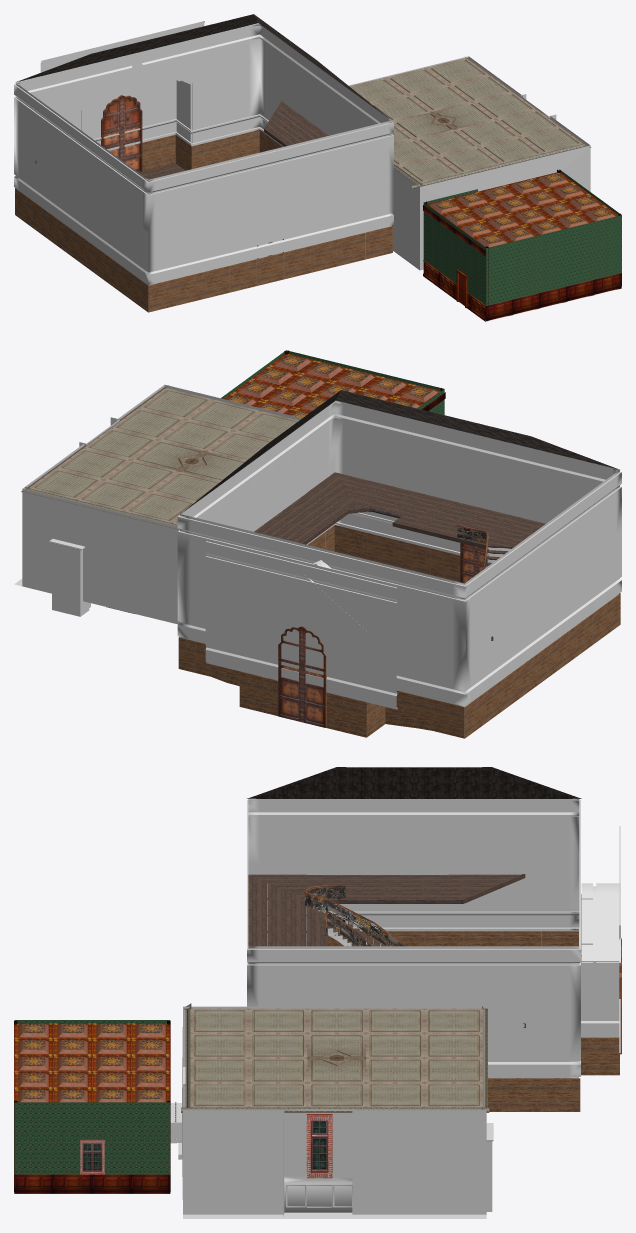
The model's file is MansaoParedes.fbx.
3 renders of one model, top to bottom at view 1: azimuth 30°, elevation 25°; view 2: azimuth 150°, elevation 25°; view 3: azimuth 270°, elevation 25°, orthographic. The views are drawn at different scales.
Parts seen in each view (by area): view 1: ParedesHall.001, ParedesHall, TetoBib, ParedesEscritorio, TetoEscritorio, ParedesBib, TelhadoHall, PortaEntradaHall, MezaninoLateral; view 2: ParedesHall.001, ParedesHall, TetoBib, ParedesBib, TetoEscritorio, MezaninoPrincipal, MezaninoLateral, TelhadoHall, PortaEntradaHall, Estantes, ParedesEscritorio, PortaSalaJantar; view 3: ParedesHall.001, ParedesBib, TetoBib, ParedesEscritorio, ParedesHall, TetoEscritorio, TelhadoHall, MezaninoLateral, MezaninoPrincipal, ChaoBib, ParapeitoEscada, Parapeito.col (+4 smaller).
Part boxes in pixels (<box>): ParedesHall.001: <box>14,23,393,285</box>; ParedesHall: <box>15,21,392,312</box>; TetoBib: <box>349,57,591,189</box>; ParedesEscritorio: <box>423,169,621,321</box>; TetoEscritorio: <box>427,172,618,247</box>; ParedesBib: <box>349,56,590,270</box>; TelhadoHall: <box>16,14,391,120</box>; PortaEntradaHall: <box>101,95,142,172</box>; MezaninoLateral: <box>35,100,328,163</box>; ParedesHall.001: <box>177,400,621,706</box>; ParedesHall: <box>178,525,620,738</box>; TetoBib: <box>21,385,299,529</box>; ParedesBib: <box>22,384,301,624</box>; TetoEscritorio: <box>224,354,440,418</box>; MezaninoPrincipal: <box>356,484,545,548</box>; MezaninoLateral: <box>254,472,493,640</box>; TelhadoHall: <box>181,390,617,513</box>; PortaEntradaHall: <box>278,626,326,727</box>; Estantes: <box>49,539,90,616</box>; ParedesEscritorio: <box>221,350,445,414</box>; PortaSalaJantar: <box>460,543,485,583</box>; ParedesHall.001: <box>247,798,580,1078</box>; ParedesBib: <box>170,1006,486,1216</box>; TetoBib: <box>181,1003,489,1112</box>; ParedesEscritorio: <box>14,1020,170,1193</box>; ParedesHall: <box>328,826,620,1111</box>; TetoEscritorio: <box>14,1023,170,1102</box>; TelhadoHall: <box>247,767,581,798</box>; MezaninoLateral: <box>248,874,525,1027</box>; MezaninoPrincipal: <box>248,899,327,946</box>; ChaoBib: <box>183,1135,486,1218</box>; ParapeitoEscada: <box>304,885,407,946</box>; Parapeito.col: <box>304,887,404,946</box>.
Bounding box in the file's own units: 31.36 × 13.21 × 31.16.
